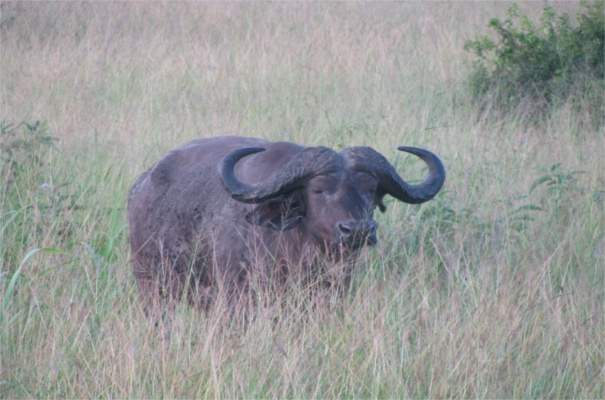buffalo: (104, 134, 450, 393)
